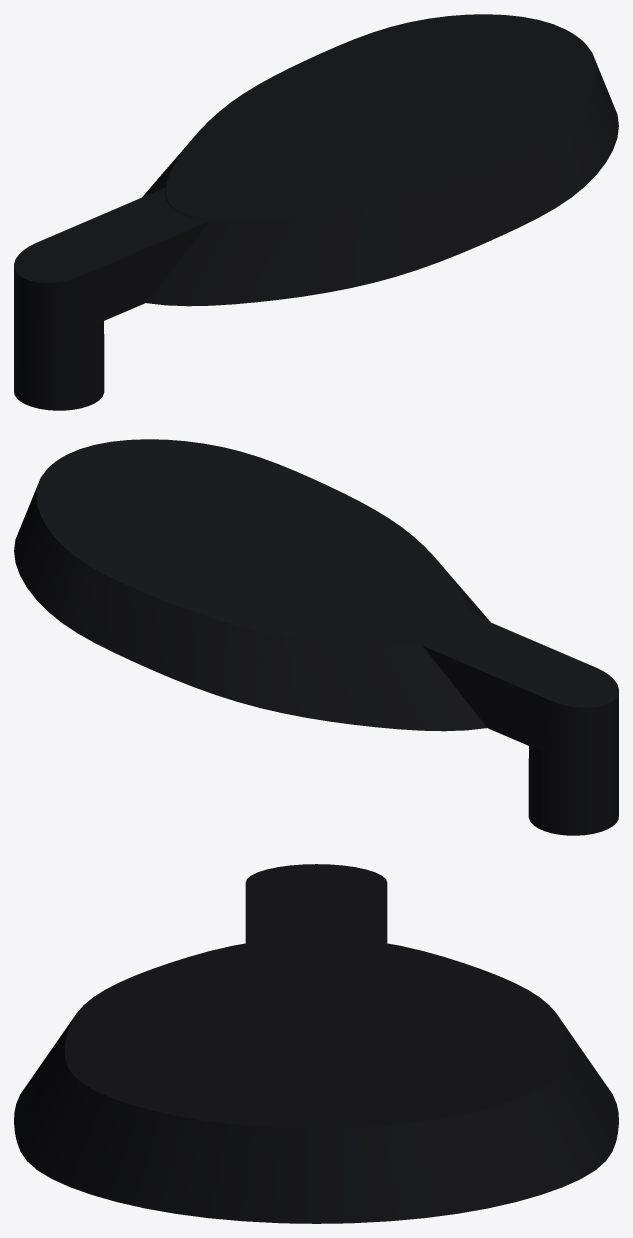
The model's file is Convia.glb.
3 views of the same model, one above another, from view 1: azimuth 30°, elevation 25°; view 2: azimuth 150°, elevation 25°; view 3: azimuth 270°, elevation 25° (orthographic). The views are drawn at different scales.
Parts seen in each view (by area): view 1: Convia, Masthalterung; view 2: Convia, Masthalterung; view 3: Convia, Masthalterung.
Boxes of the visible parts, x1,y1,x2,y2 form: Convia: (142, 14, 618, 306); Masthalterung: (14, 188, 209, 410); Convia: (14, 439, 490, 731); Masthalterung: (423, 613, 618, 835); Convia: (14, 936, 618, 1223); Masthalterung: (245, 864, 387, 943).
Size of the model in its own units: 0.6617 by 0.2514 by 0.3841.
2 materials, 2 textured.
